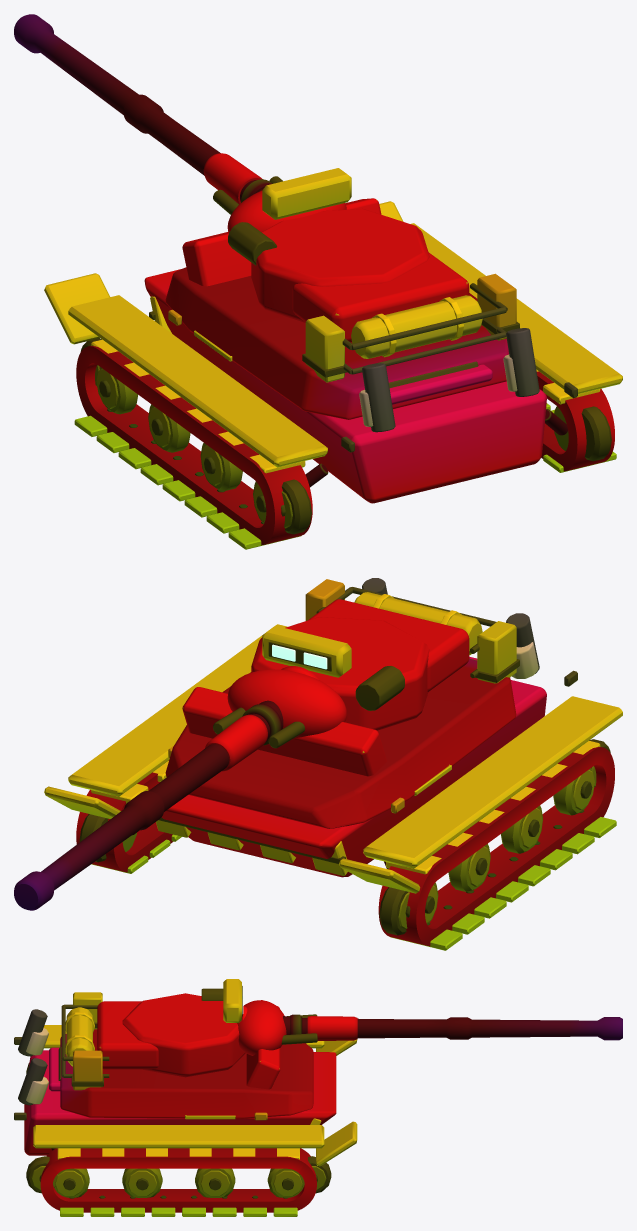
The model's file is LongshotTankette.fbx.
3 views of the same model, one above another, from view 1: azimuth 30°, elevation 25°; view 2: azimuth 150°, elevation 25°; view 3: azimuth 270°, elevation 25° (orthographic). The views are drawn at different scales.
Visible parts, largest first — view 1: LongshotTankette_LongshotTankette_LightArmor, LongshotTankette_LongshotTankette_PrimaryArmor, LongshotTankette_LongshotTankette_Tread, LongshotTankette_LongshotTankette_Gunmetal, LongshotTankette_LongshotTankette_WheelRim, LongshotTankette_LongshotTankette_WheelHub, LongshotTankette_LongshotTankette_Warning; view 2: LongshotTankette_LongshotTankette_LightArmor, LongshotTankette_LongshotTankette_PrimaryArmor, LongshotTankette_LongshotTankette_Tread, LongshotTankette_LongshotTankette_Gunmetal, LongshotTankette_LongshotTankette_WheelRim, LongshotTankette_LongshotTankette_WheelHub, LongshotTankette_LongshotTankette_Warning, LongshotTankette_LongshotTankette_Emissive; view 3: LongshotTankette_LongshotTankette_LightArmor, LongshotTankette_LongshotTankette_PrimaryArmor, LongshotTankette_LongshotTankette_Tread, LongshotTankette_LongshotTankette_Gunmetal, LongshotTankette_LongshotTankette_WheelRim, LongshotTankette_LongshotTankette_WheelHub, LongshotTankette_LongshotTankette_Warning.
Part boxes in pixels (x1,y1,x2,y2): LongshotTankette_LongshotTankette_LightArmor: [44, 153, 622, 467]; LongshotTankette_LongshotTankette_PrimaryArmor: [144, 208, 546, 503]; LongshotTankette_LongshotTankette_Tread: [74, 296, 616, 549]; LongshotTankette_LongshotTankette_Gunmetal: [14, 14, 611, 534]; LongshotTankette_LongshotTankette_WheelRim: [95, 365, 568, 528]; LongshotTankette_LongshotTankette_WheelHub: [96, 368, 266, 521]; LongshotTankette_LongshotTankette_Warning: [168, 273, 516, 340]; LongshotTankette_LongshotTankette_LightArmor: [44, 592, 622, 893]; LongshotTankette_LongshotTankette_PrimaryArmor: [161, 599, 546, 877]; LongshotTankette_LongshotTankette_Tread: [76, 594, 616, 950]; LongshotTankette_LongshotTankette_Gunmetal: [14, 578, 610, 935]; LongshotTankette_LongshotTankette_WheelRim: [122, 766, 596, 929]; LongshotTankette_LongshotTankette_WheelHub: [425, 770, 594, 922]; LongshotTankette_LongshotTankette_Warning: [168, 579, 404, 813]; LongshotTankette_LongshotTankette_Emissive: [272, 644, 327, 669]; LongshotTankette_LongshotTankette_LightArmor: [26, 979, 357, 1166]; LongshotTankette_LongshotTankette_PrimaryArmor: [24, 992, 336, 1155]; LongshotTankette_LongshotTankette_Tread: [40, 1006, 321, 1216]; LongshotTankette_LongshotTankette_Gunmetal: [14, 986, 622, 1198]; LongshotTankette_LongshotTankette_WheelRim: [31, 1166, 326, 1197]; LongshotTankette_LongshotTankette_WheelHub: [55, 1170, 302, 1196]; LongshotTankette_LongshotTankette_Warning: [73, 1050, 267, 1120].
Bounding box in the file's own units: 221 × 134 × 452.
